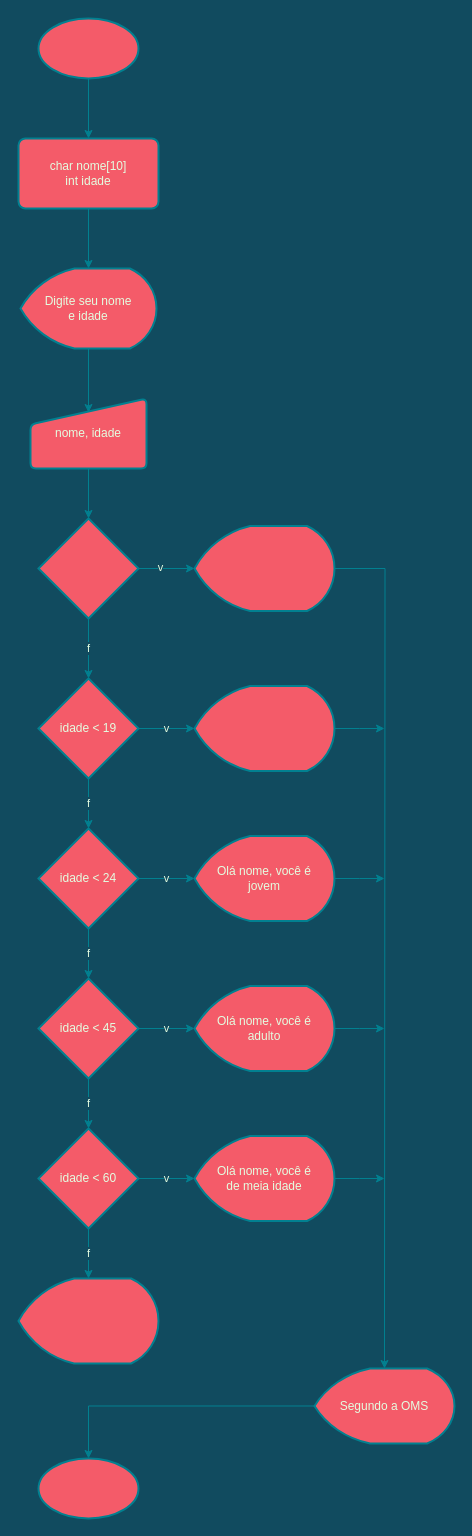
Image size: 472x1536. Some labels were removed from this diagram. The centre of each missing label's shape, as x and y in pixels:
fim: point 88,1488
idade < 10: point 88,568
Início: point 88,48
Olá nome, você é adolescente: point 264,728
Olá nome, você é criança: point 264,568
Olá nome, você é idoso: point 88,1320
